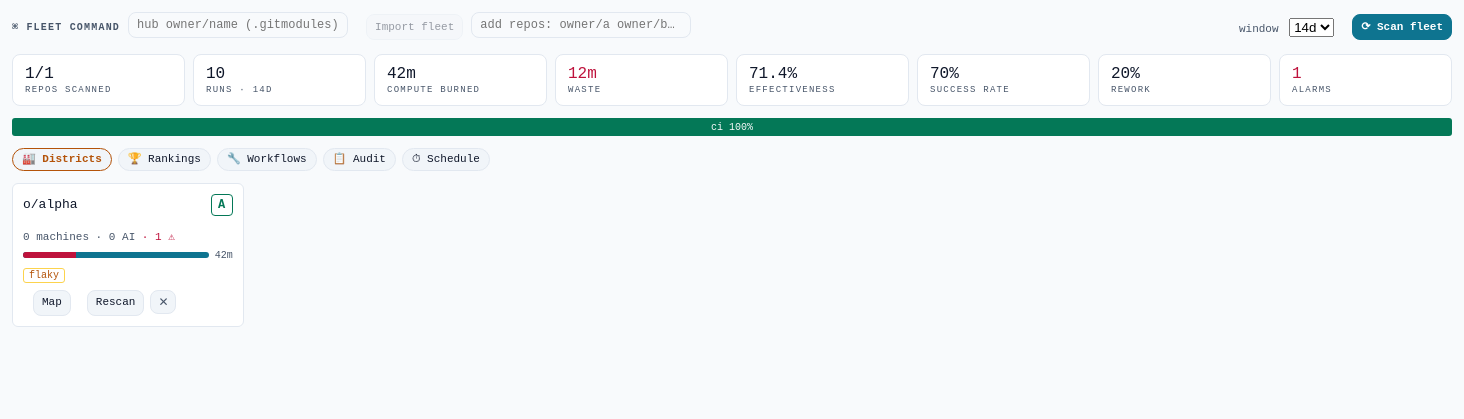
FleetOpsPanel › still reports a genuinely absent switch value as disarmed
Click the button "⏱ Schedule" at [446, 159], box [402, 148, 490, 170]
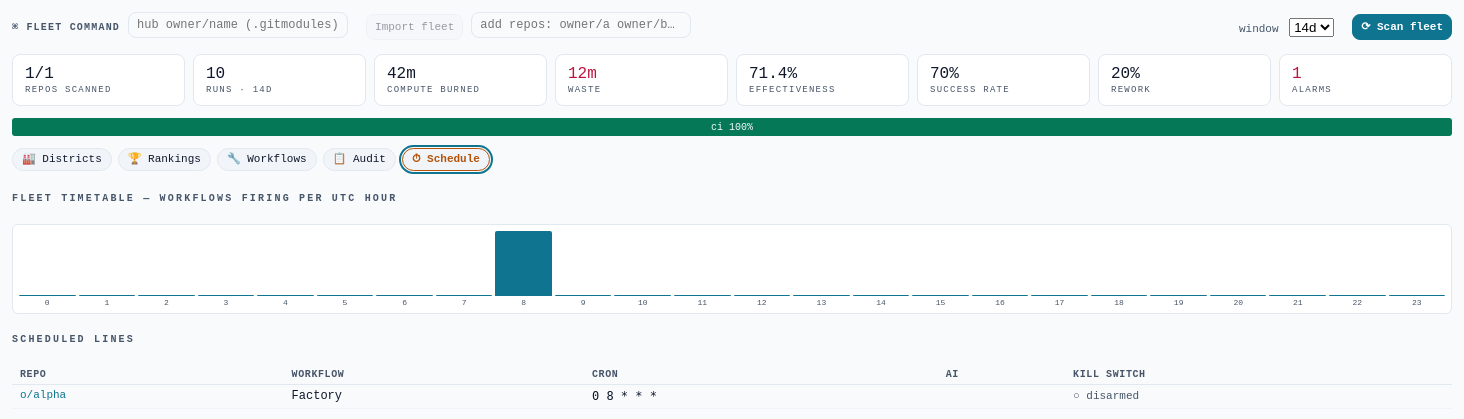
Result: the text "○ disarmed" is shown at [1073, 390, 1139, 402]
